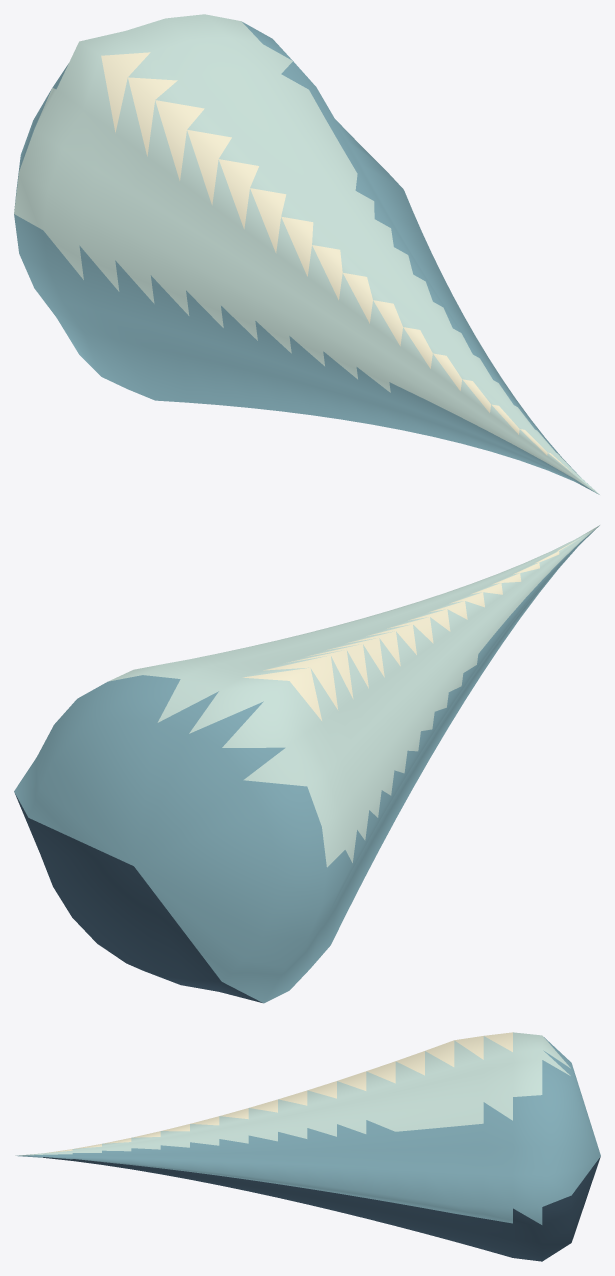
Rendered from comet_spike.glb.
3 renders of one model, top to bottom at view 1: azimuth 30°, elevation 25°; view 2: azimuth 150°, elevation 25°; view 3: azimuth 270°, elevation 25°, orthographic. The views are drawn at different scales.
Visible parts, largest first — view 1: comet_spike; view 2: comet_spike; view 3: comet_spike.
Part boxes in pixels (bbox=[...]): comet_spike: bbox=[14, 14, 599, 494]; comet_spike: bbox=[14, 525, 599, 1003]; comet_spike: bbox=[15, 1032, 600, 1261].
Bounding box in the file's own units: 1.18 × 1.1 × 3.
